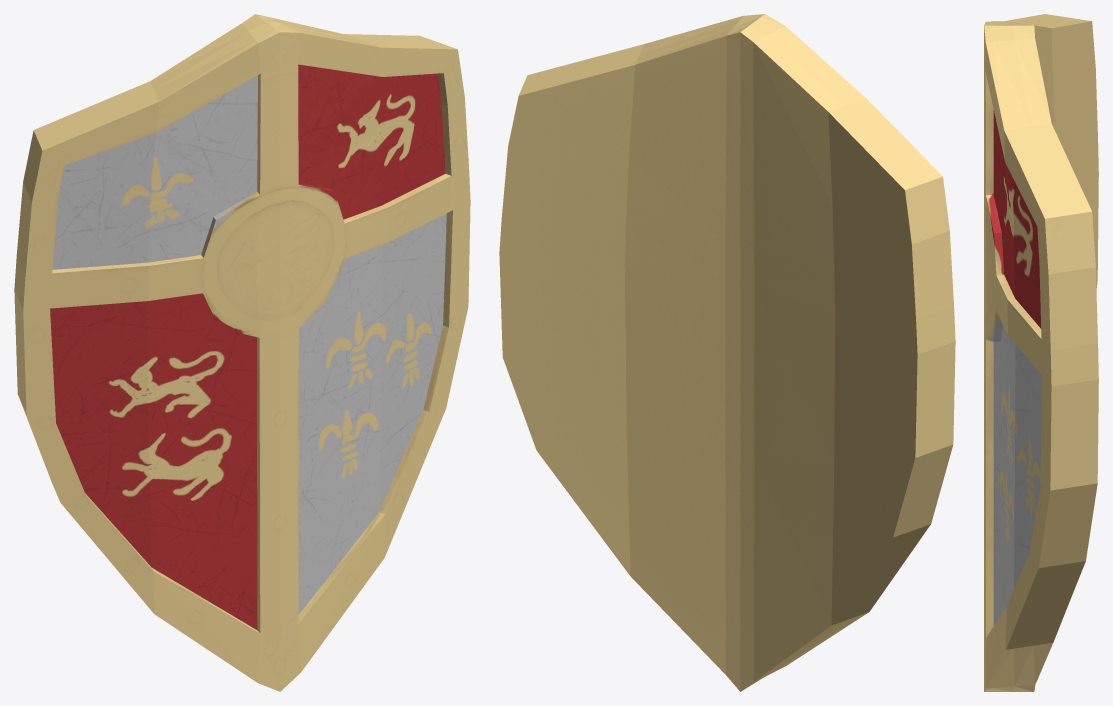
Rendered from Quad Red kite Shield.fbx.
3 views of the same model, side by side, from view 1: azimuth 30°, elevation 25°; view 2: azimuth 150°, elevation 25°; view 3: azimuth 270°, elevation 25° (orthographic).
Parts seen in each view (by area): view 1: Quad_Red_kite_Shield; view 2: Quad_Red_kite_Shield; view 3: Quad_Red_kite_Shield.
Boxes of the visible parts, x1=… form: Quad_Red_kite_Shield: x1=14, y1=14, x2=470, y2=691; Quad_Red_kite_Shield: x1=499, y1=14, x2=955, y2=691; Quad_Red_kite_Shield: x1=984, y1=14, x2=1098, y2=691.
Size of the model in its own units: 114 by 161 by 25.17.
